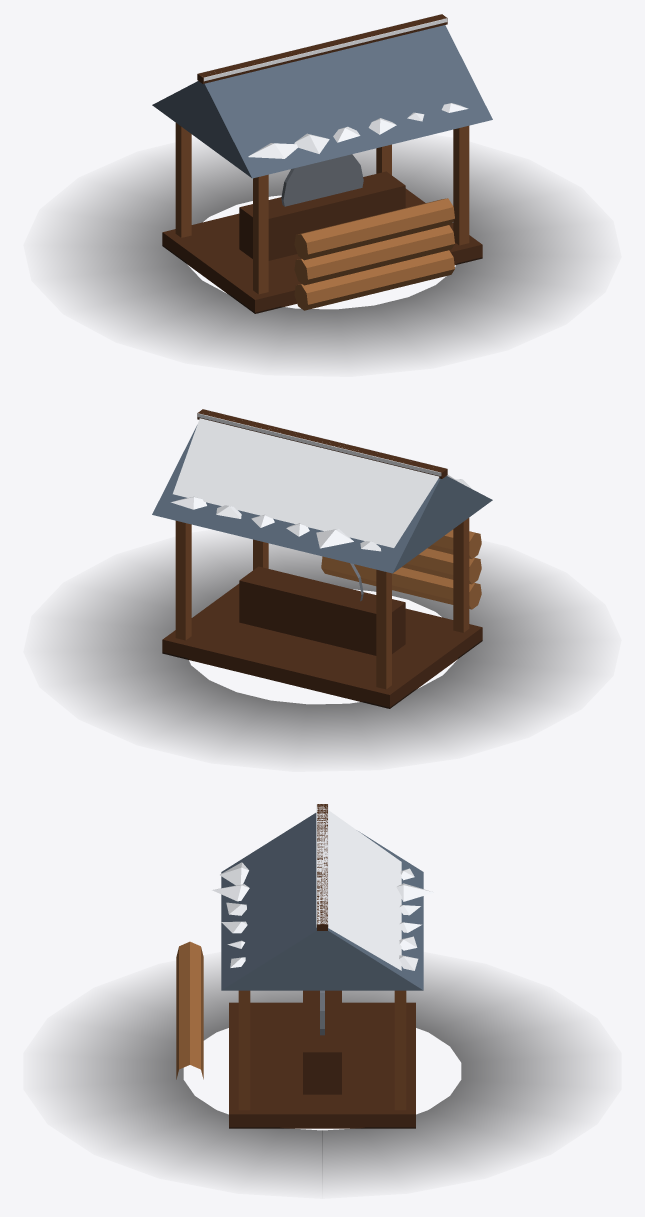
The model's file is sawmill_t0.glb.
3 renders of one model, top to bottom at view 1: azimuth 30°, elevation 25°; view 2: azimuth 150°, elevation 25°; view 3: azimuth 270°, elevation 25°, orthographic.
Parts seen in each view (by area): view 1: sawmill_t0; view 2: sawmill_t0; view 3: sawmill_t0.
Part boxes in pixels (bbox=[...]): sawmill_t0: bbox=[60, 14, 584, 360]; sawmill_t0: bbox=[60, 409, 584, 755]; sawmill_t0: bbox=[60, 804, 584, 1187].
Size of the model in its own units: 8 by 2.95 by 7.92.
